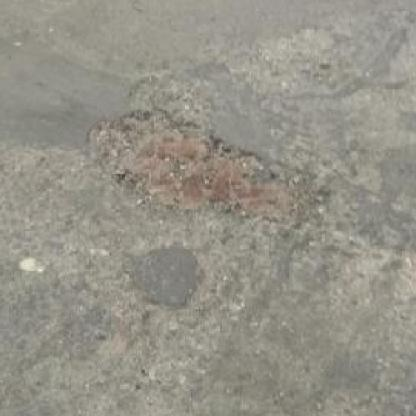pothole: (84, 107, 314, 231)
